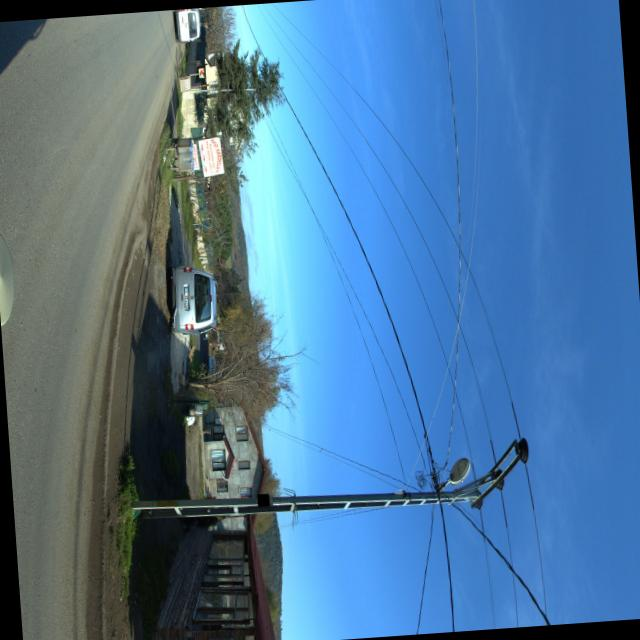Utility Pole Information Plate: (256, 494, 268, 506)
